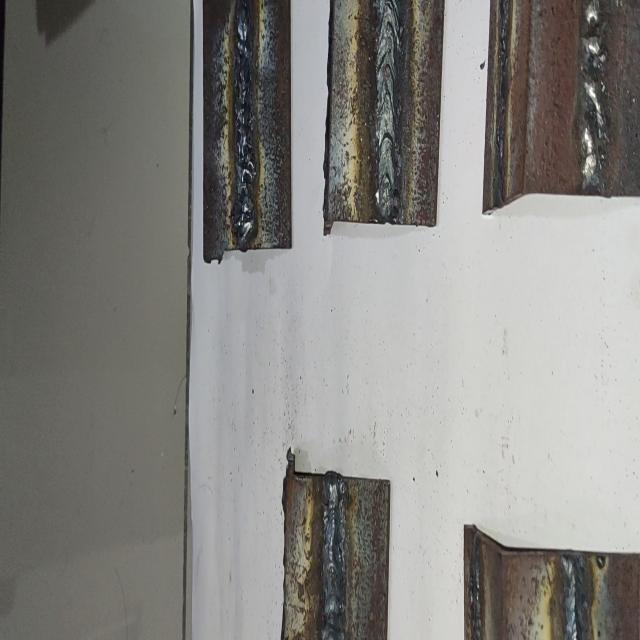Bad Weld: (236, 0, 254, 246), (583, 0, 606, 187)
Defect: (581, 1, 606, 180), (236, 0, 253, 244)
Good Weld: (377, 0, 400, 214), (323, 477, 347, 640)
